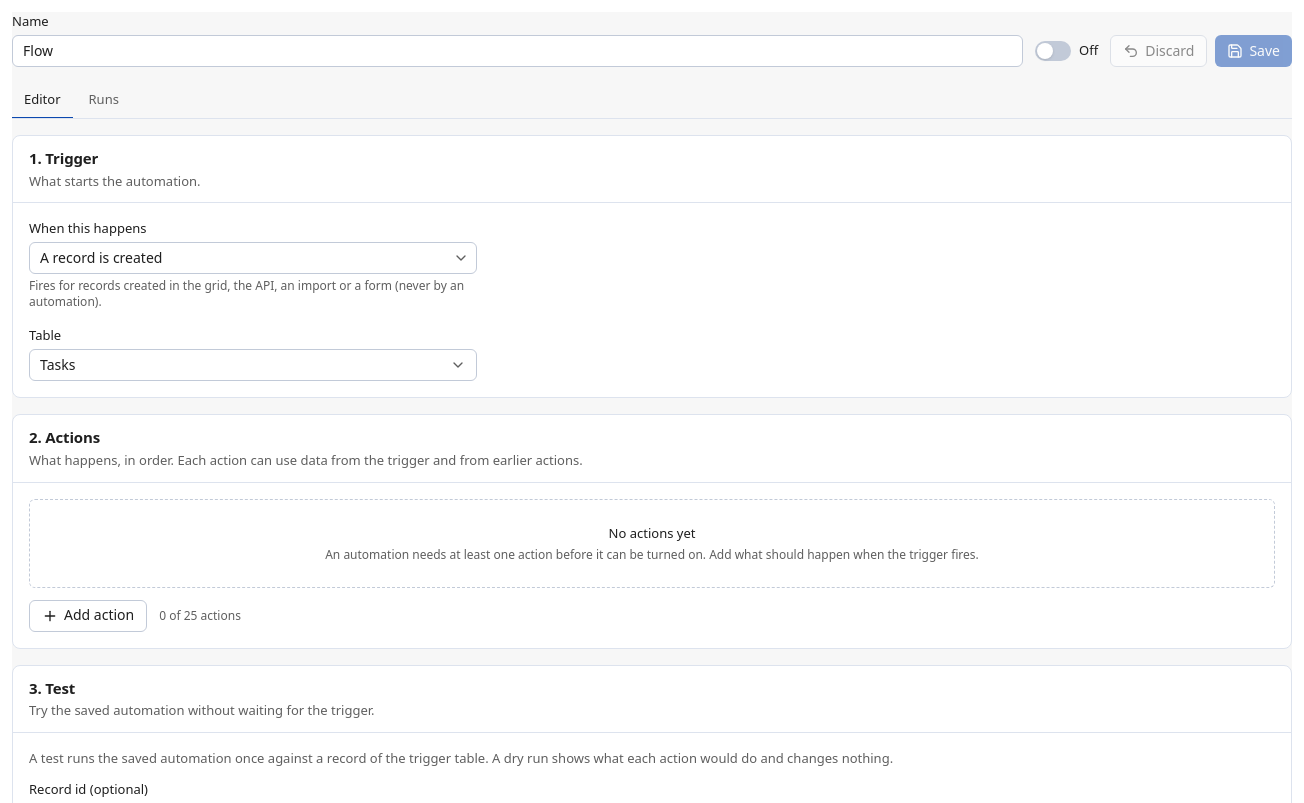
Test case: saving and the draft › keeps Save disabled until something changes and offers Discard
Expected: the button "Save" is disabled, [1215, 35, 1292, 67]
Expected: the button "Discard" is disabled, [1110, 35, 1207, 67]
Type "!" into the field labelled "Name" at [518, 51], box [12, 35, 1023, 67]
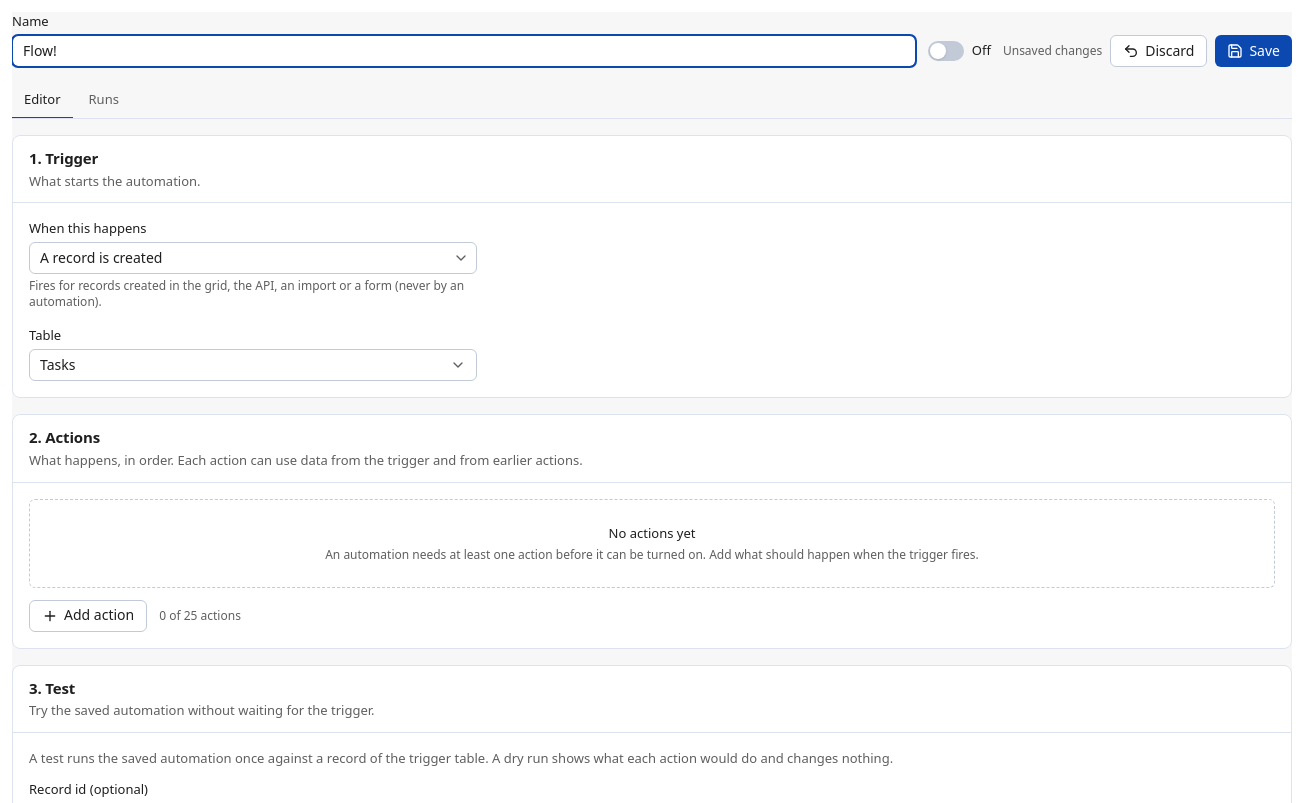
Result: the button "Save" is enabled at [1215, 35, 1292, 67]
Result: the text "Unsaved changes" is shown at [1003, 43, 1102, 59]
Click the button "Discard" at [1159, 51], box [1110, 35, 1207, 67]
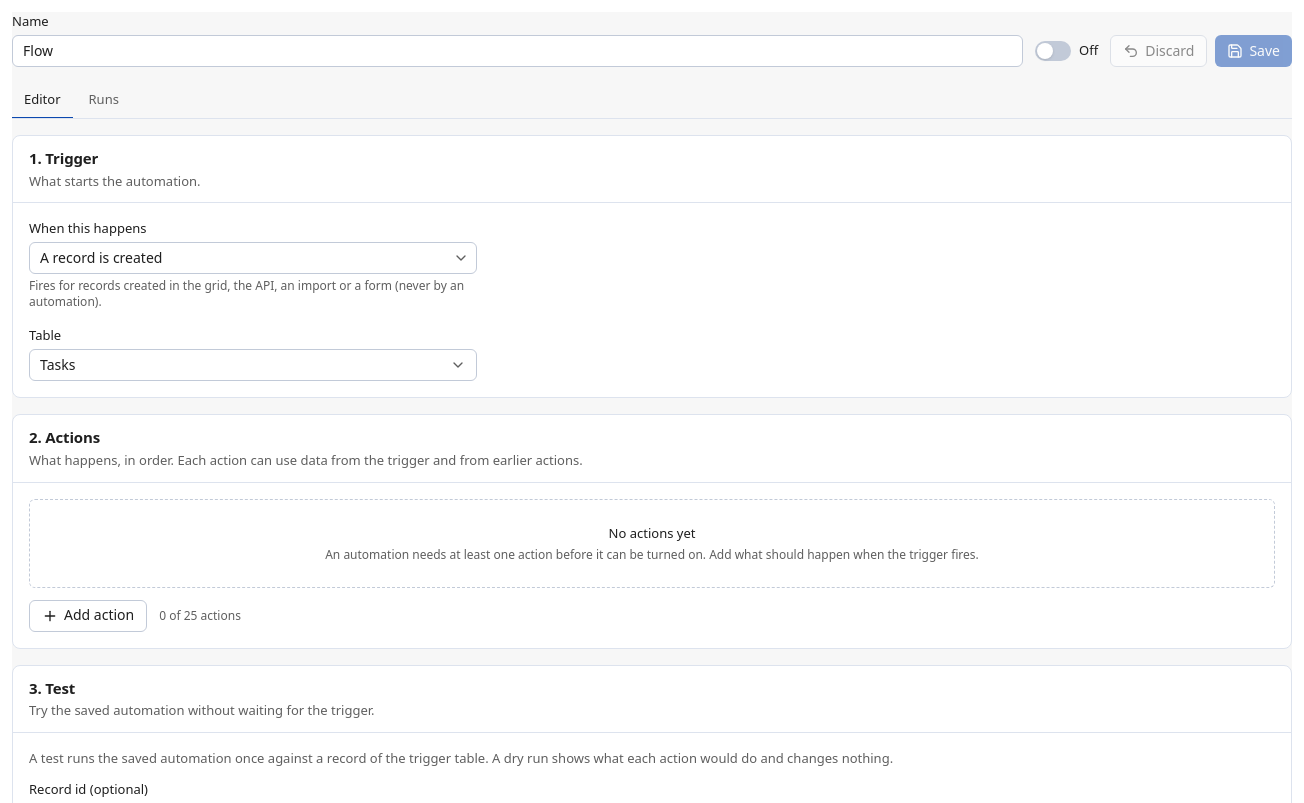
Result: the field labelled "Name" holds "Flow" at [12, 35, 1023, 67]
Result: the button "Save" is disabled at [1215, 35, 1292, 67]
